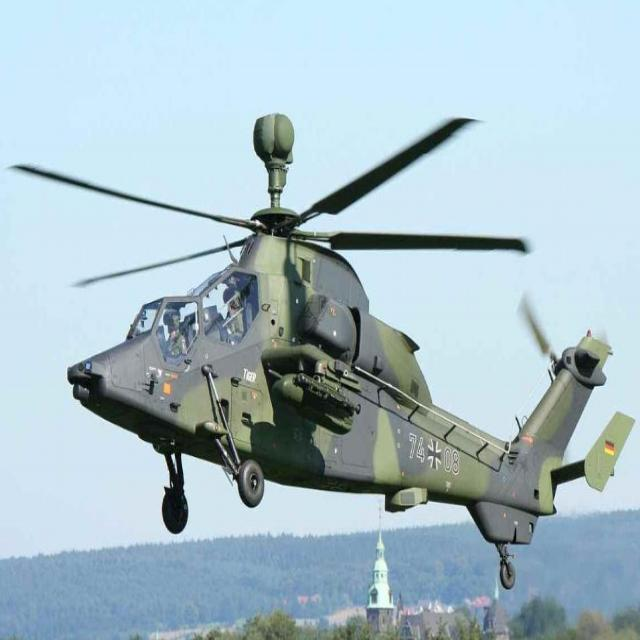MIL_HELO: (6, 106, 636, 590)
